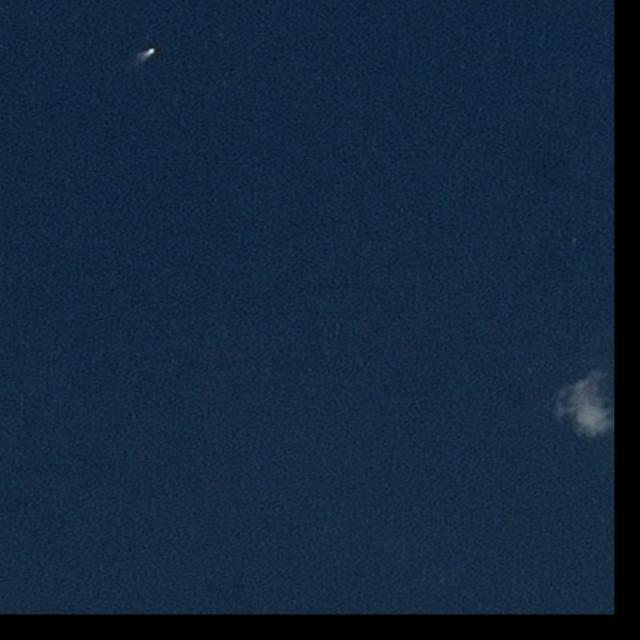ship: (143, 47, 157, 58)
